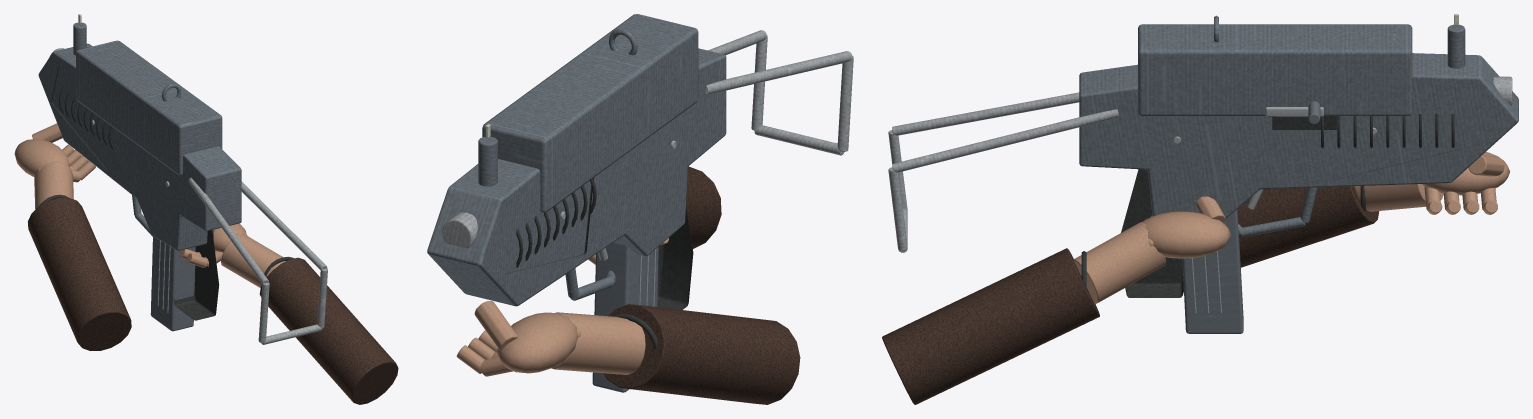
File: uzi.glb
3 renders of one model, left to right at view 1: azimuth 30°, elevation 25°; view 2: azimuth 150°, elevation 25°; view 3: azimuth 270°, elevation 25°, orthographic. The views are drawn at different scales.
Parts seen in each view (by area): view 1: uzi__BODY, uzi__HAND_L, uzi__HAND_R, uzi__MAGAZINE; view 2: uzi__BODY, uzi__HAND_L, uzi__MAGAZINE, uzi__HAND_R; view 3: uzi__BODY, uzi__HAND_R, uzi__HAND_L, uzi__MAGAZINE, uzi__BOLT.
Boxes of the visible parts, x1,y1,x2,y2 form: uzi__BODY: [38, 14, 327, 344]; uzi__HAND_L: [14, 123, 131, 350]; uzi__HAND_R: [179, 223, 398, 404]; uzi__MAGAZINE: [150, 236, 195, 331]; uzi__BODY: [427, 14, 853, 309]; uzi__HAND_L: [456, 301, 800, 404]; uzi__MAGAZINE: [592, 243, 658, 392]; uzi__HAND_R: [588, 166, 721, 264]; uzi__BODY: [888, 14, 1518, 297]; uzi__HAND_R: [882, 196, 1230, 404]; uzi__HAND_L: [1237, 152, 1509, 267]; uzi__MAGAZINE: [1182, 209, 1243, 333]; uzi__BOLT: [1265, 101, 1323, 124].
Size of the model in its own units: 0.3294 by 0.3781 by 0.6501.
Materials: 6 (6 with a texture image).
